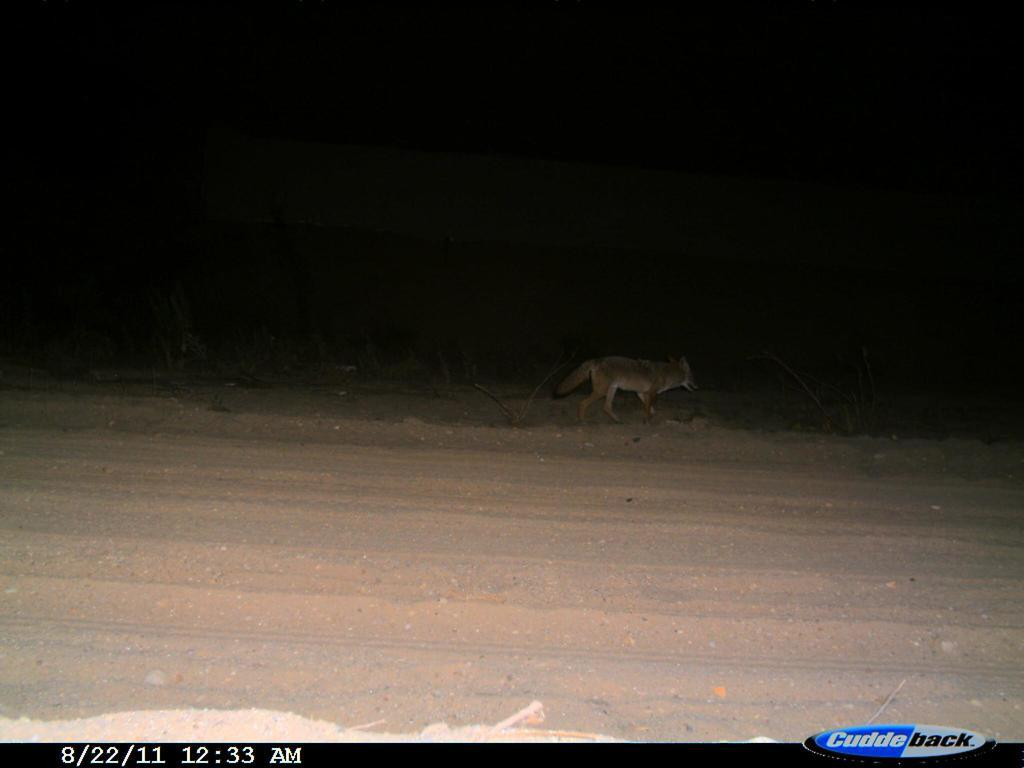coyote: (532, 333, 708, 447)
